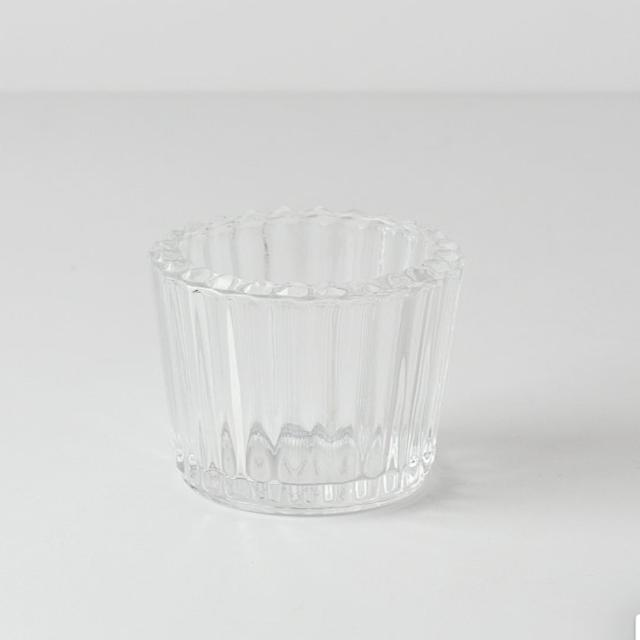recyclable: (146, 201, 465, 519)
